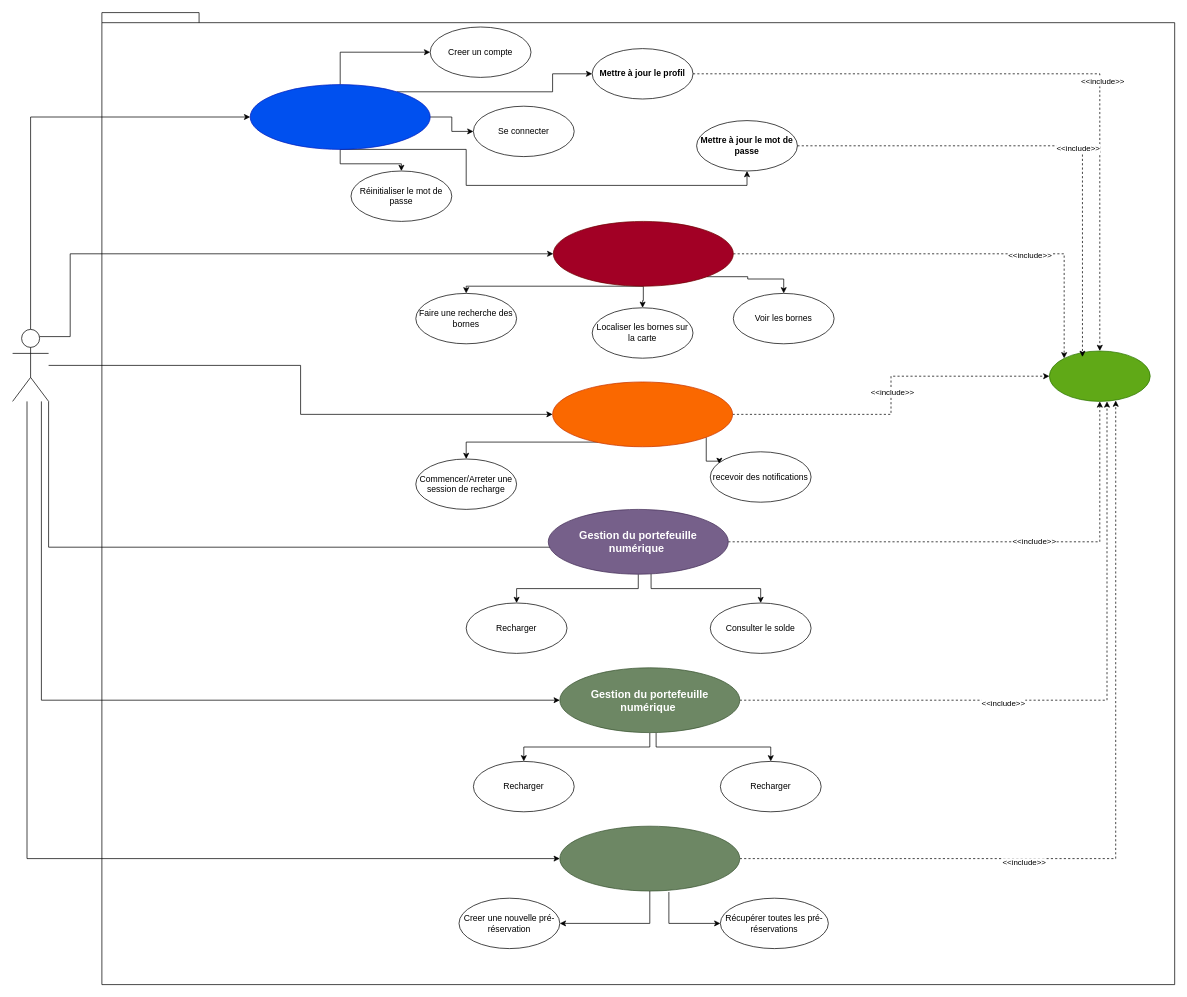
This 1187x997 diagram has some shape labels left out. The centre of each missing label's shape, as x and y in pixels:
"Authentifié" belongs at (x=1099, y=375).
"Client" belongs at (x=30, y=365).
"Gestion de la pré-réservation des bornes" belongs at (x=649, y=858).
"Gestion des bornes de recharges" belongs at (x=643, y=253).
"Gestion des comptes utilisateurs" belongs at (x=339, y=116).
"Gestion des sessions de recharges" belongs at (x=642, y=414).
